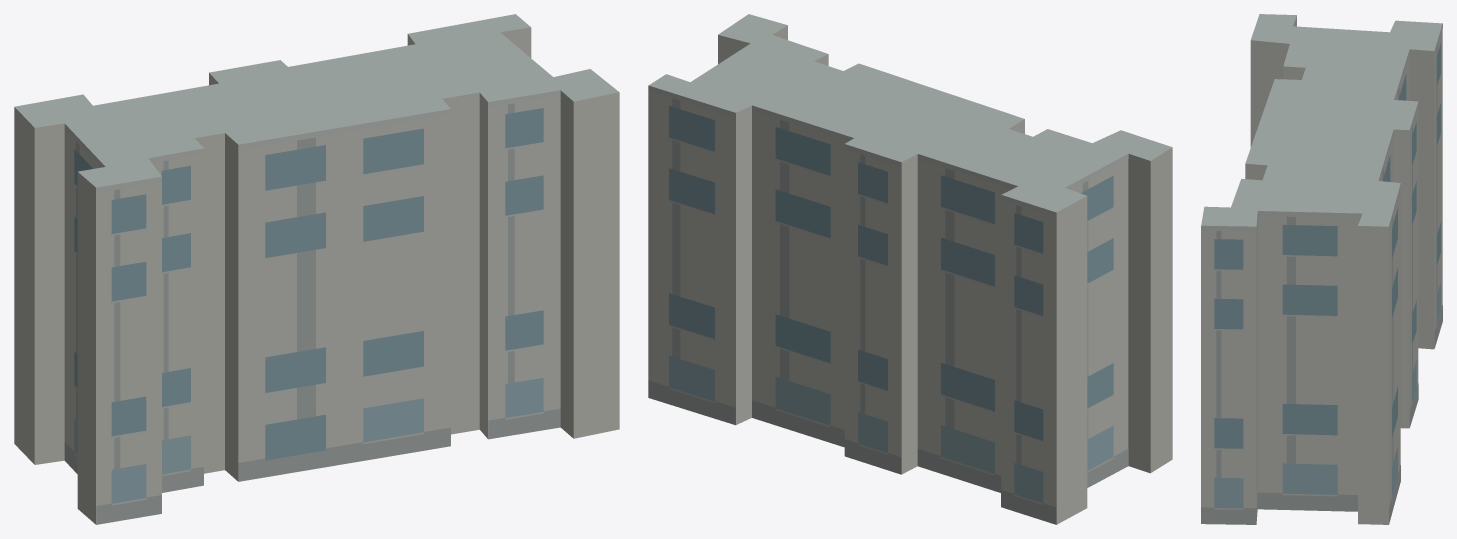
The model's file is survey-upis-32911589.glb.
3 views of the same model, side by side, from view 1: azimuth 30°, elevation 25°; view 2: azimuth 150°, elevation 25°; view 3: azimuth 270°, elevation 25° (orthographic). The views are drawn at different scales.
Visible parts, largest first — view 1: survey-upis-32911589.tmp; view 2: survey-upis-32911589.tmp; view 3: survey-upis-32911589.tmp.
Boxes of the visible parts, x1,y1,x2,y2 form: survey-upis-32911589.tmp: (14,14,619,524); survey-upis-32911589.tmp: (648,14,1172,524); survey-upis-32911589.tmp: (1201,14,1442,524).
Size of the model in its own units: 21.85 by 14.29 by 10.49.
